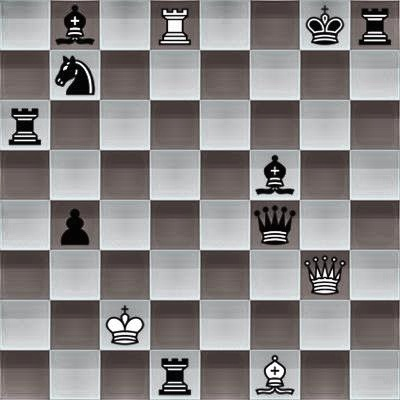black-bishop: (50, 0, 100, 50), (250, 150, 300, 200)
black-king: (300, 0, 350, 50)
black-knight: (50, 50, 100, 100)
black-pawn: (50, 200, 100, 250)
black-queen: (250, 200, 300, 250)
black-rook: (350, 0, 400, 50), (0, 100, 50, 150), (150, 350, 200, 400)
white-bishop: (250, 350, 300, 400)
white-king: (100, 300, 150, 350)
white-queen: (300, 250, 350, 300)
white-rook: (150, 0, 200, 50)
